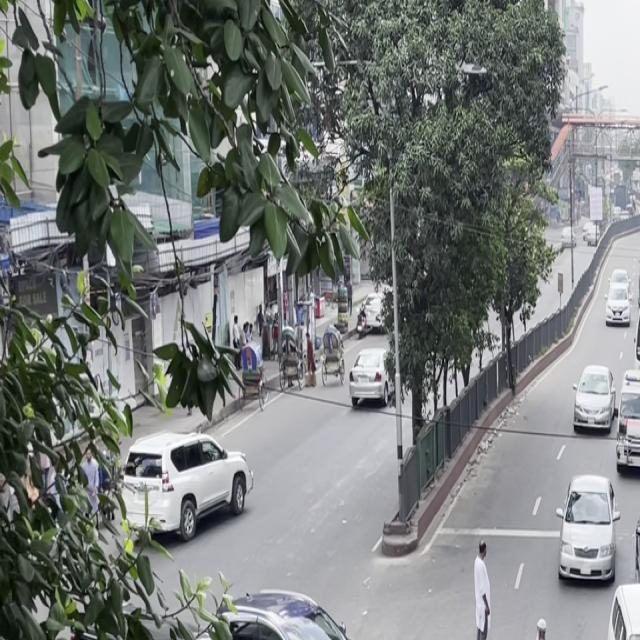bicycle: (513, 620, 585, 640)
bus: (630, 270, 640, 414)
car: (105, 420, 257, 554), (203, 570, 393, 640), (553, 462, 622, 596), (569, 358, 618, 441), (345, 342, 399, 409), (612, 377, 640, 478), (600, 576, 640, 640), (632, 491, 640, 624)
